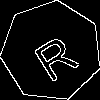R: (26, 26, 81, 84)
